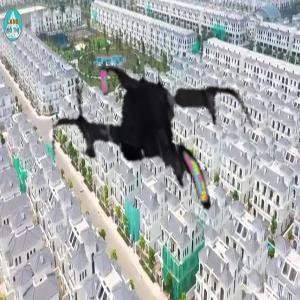drone: (45, 39, 261, 255)
